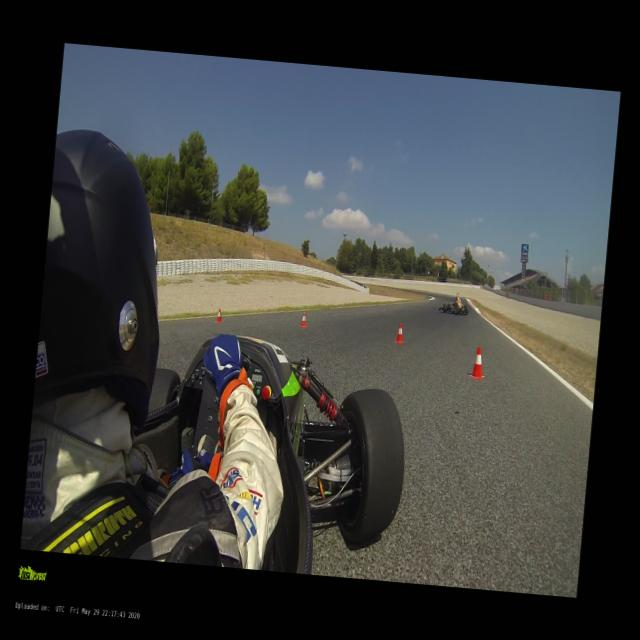orange_cone: (471, 346, 485, 378), (395, 323, 405, 343), (300, 310, 308, 326), (215, 308, 222, 322)
